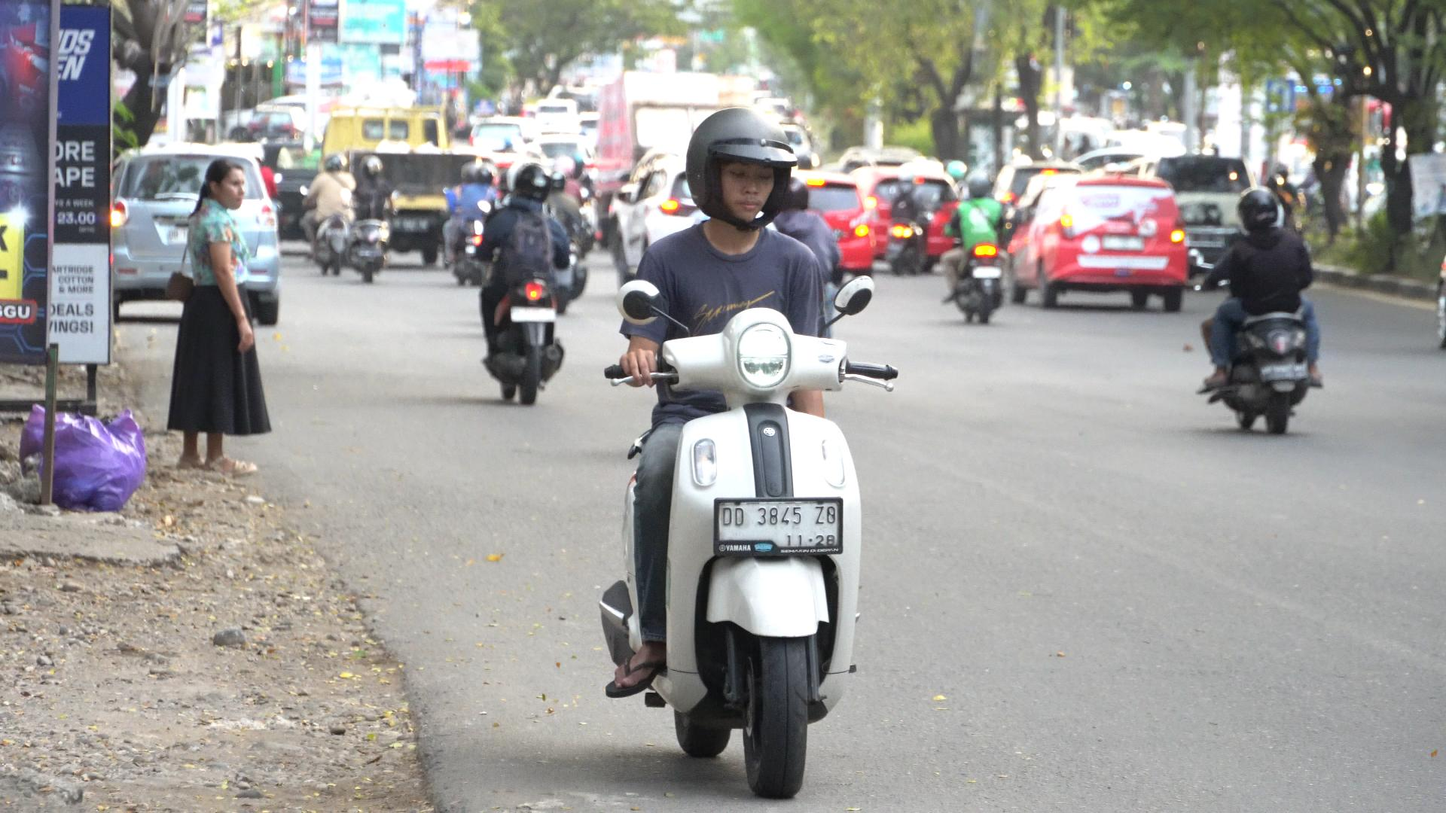number-plate: (713, 493, 846, 559)
